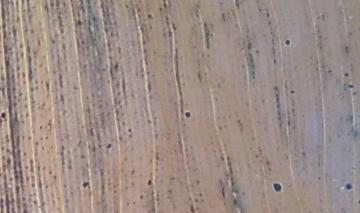tarspot: (57, 71, 65, 90), (271, 182, 283, 193), (182, 109, 194, 119), (80, 180, 92, 190), (43, 79, 51, 91), (220, 11, 227, 24), (146, 80, 153, 93), (233, 1, 241, 12), (264, 7, 271, 19), (344, 182, 353, 191), (170, 22, 178, 32), (343, 44, 350, 54), (113, 61, 119, 72), (36, 37, 42, 48), (89, 126, 95, 137), (105, 142, 113, 150), (146, 12, 154, 20), (284, 38, 291, 47), (326, 67, 333, 76), (105, 142, 112, 151), (347, 83, 355, 90), (75, 18, 82, 26), (37, 124, 44, 132), (300, 150, 307, 158), (146, 178, 152, 187), (157, 5, 163, 14), (343, 71, 350, 78), (126, 126, 133, 133), (138, 193, 144, 201), (167, 1, 173, 9), (162, 1, 167, 10), (1, 111, 6, 119), (288, 89, 296, 94), (141, 37, 146, 45), (257, 7, 262, 12)
